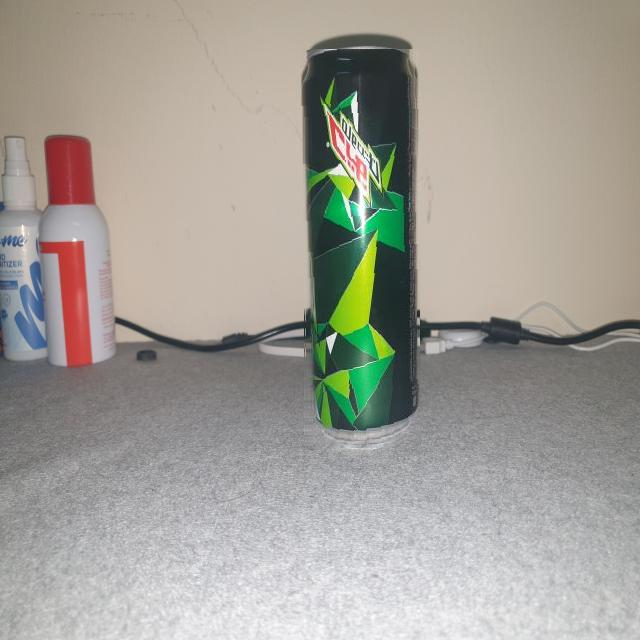recyclable: (303, 49, 420, 448)
